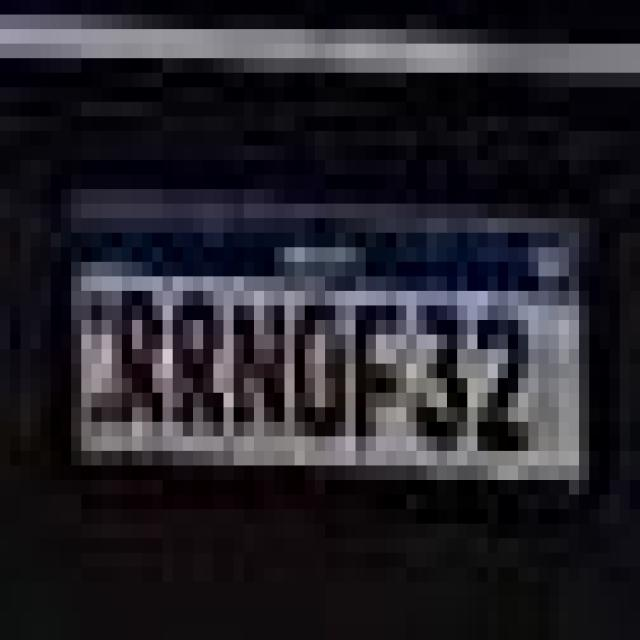0: (286, 284, 349, 444)
3: (413, 299, 472, 455)
F: (353, 291, 411, 451)
N: (224, 277, 292, 441)
R: (107, 277, 171, 430), (168, 283, 226, 440)
